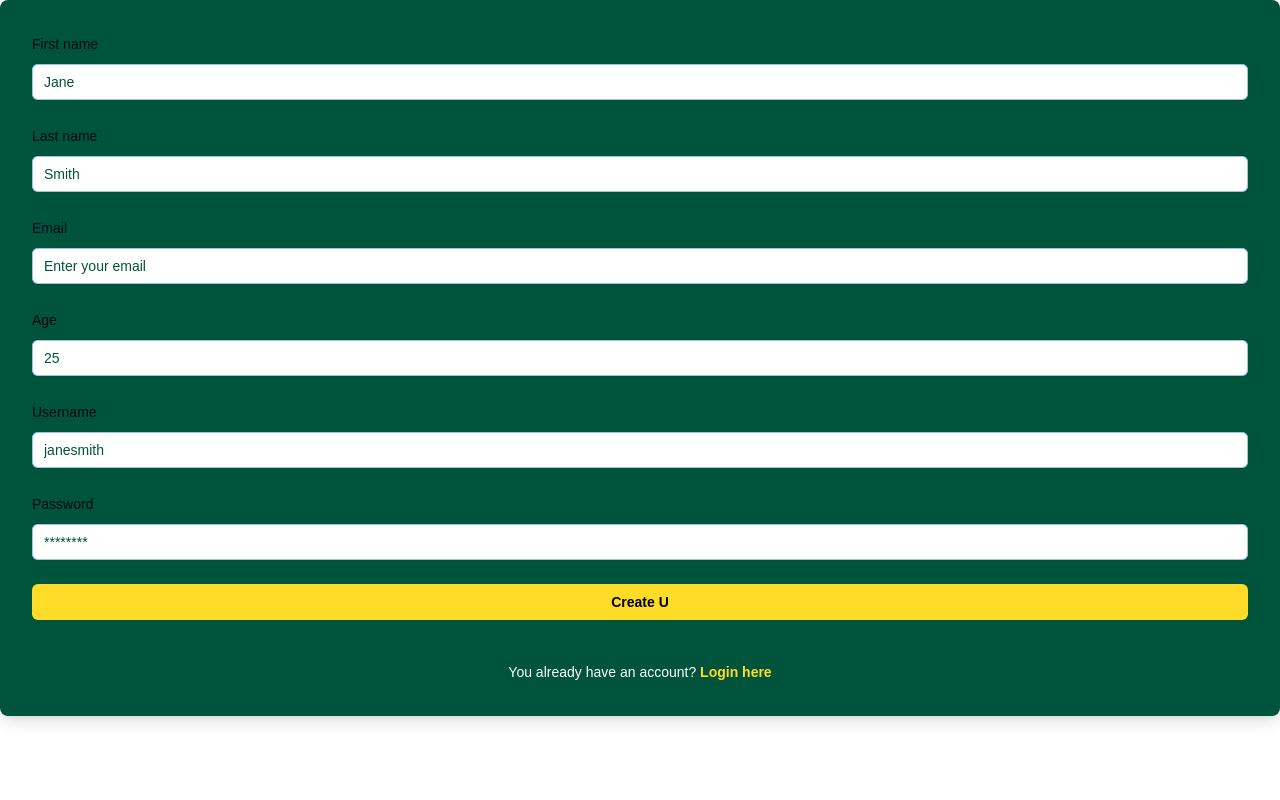
Scenario: SignUp Component › handles API error during form submission
Type "John" into the field labelled "First name".
click(640, 82); type("John")  # box [32,64,1248,100]
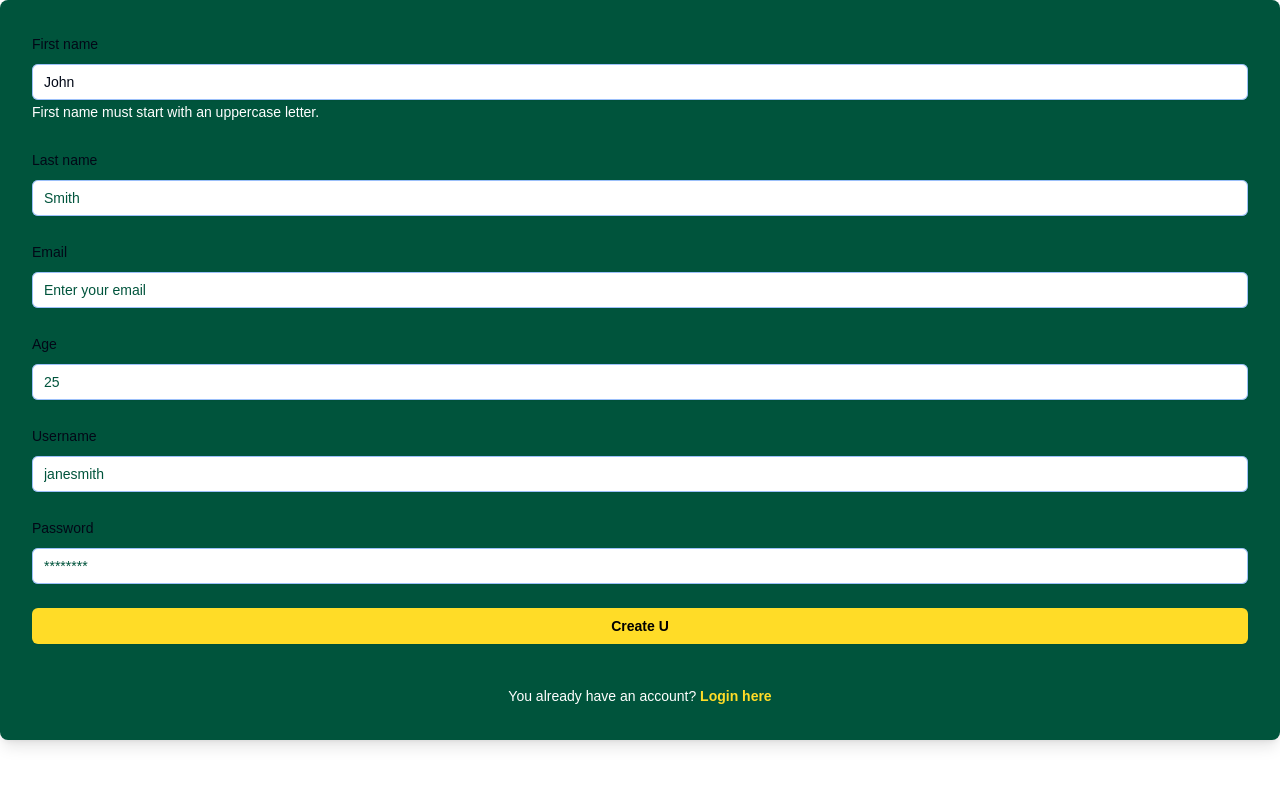
Type "Perez" into the field labelled "Last name".
click(640, 198); type("Perez")  # box [32,180,1248,216]
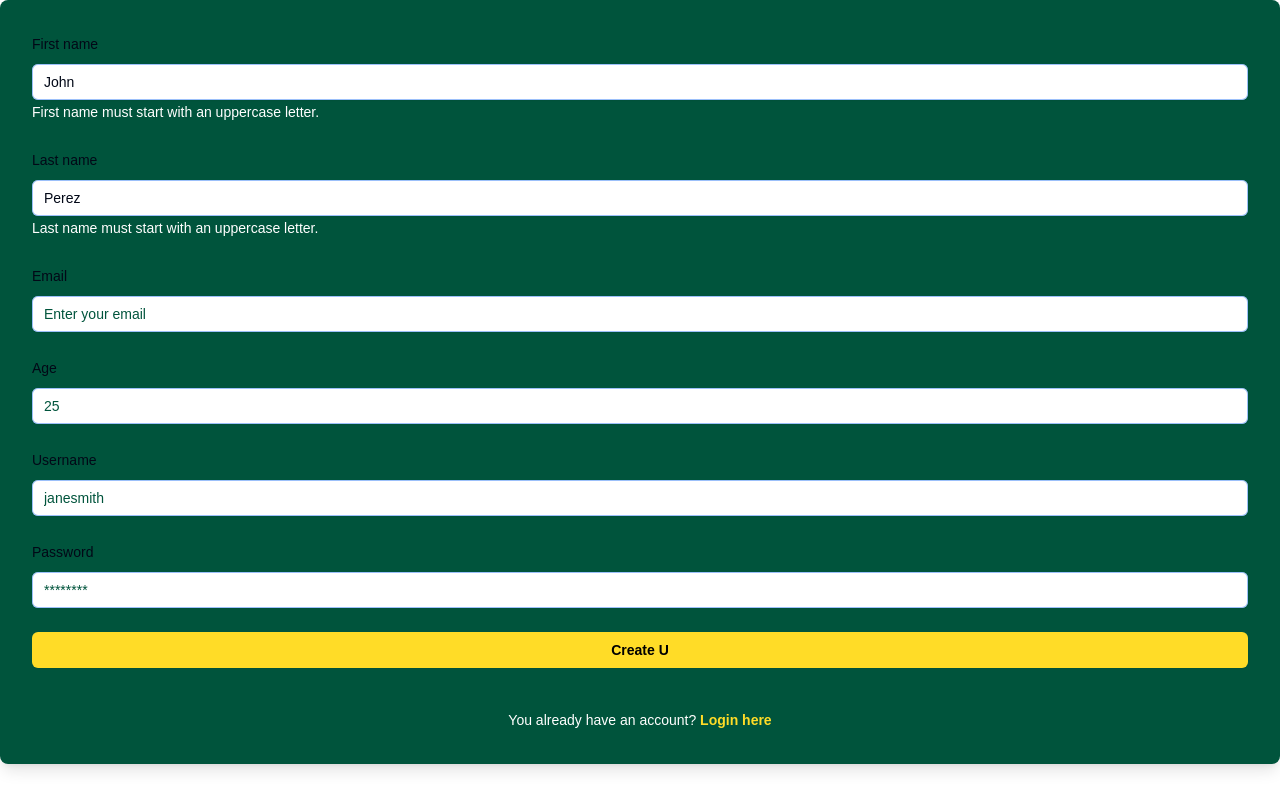
Type "johnpe@example.com" into the field labelled "Email".
click(640, 314); type("johnpe@example.com")  # box [32,296,1248,332]
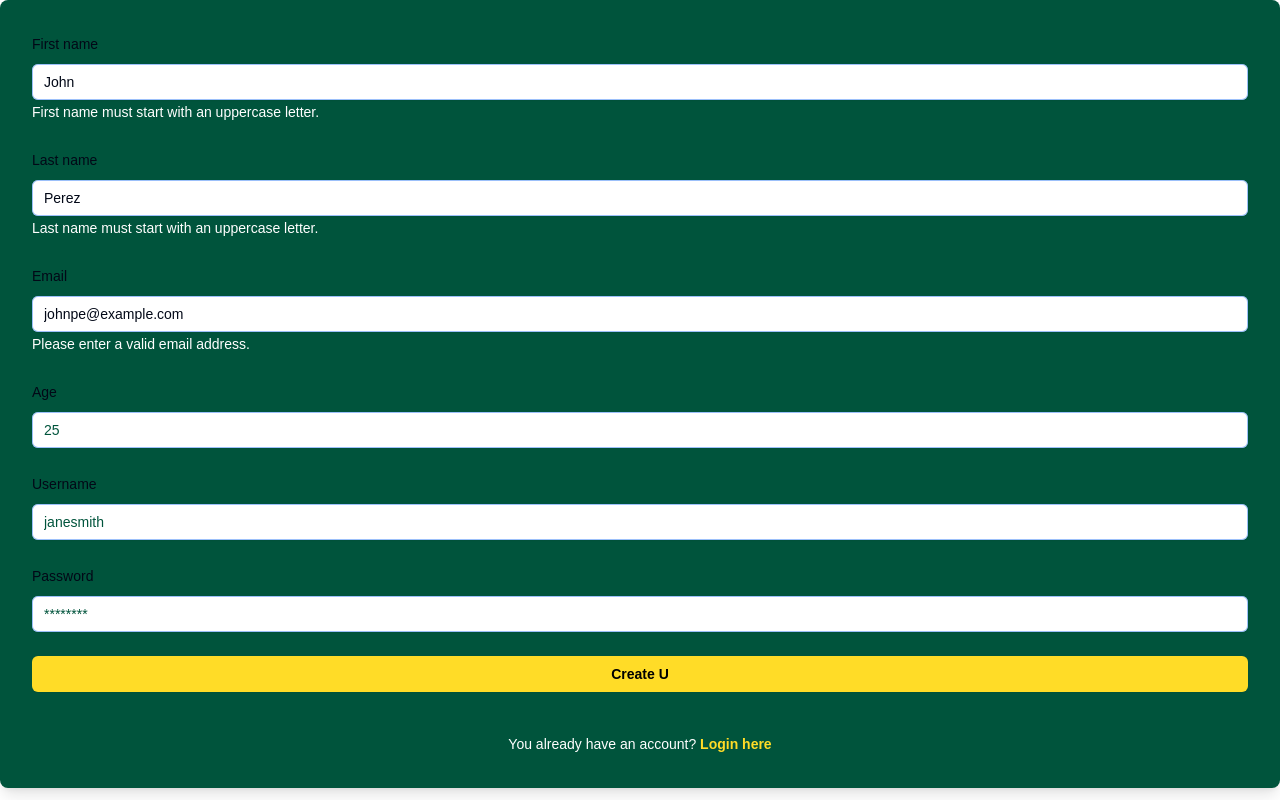
Type "32" into the number field labelled "Age".
click(640, 430); type("32")  # box [32,412,1248,448]
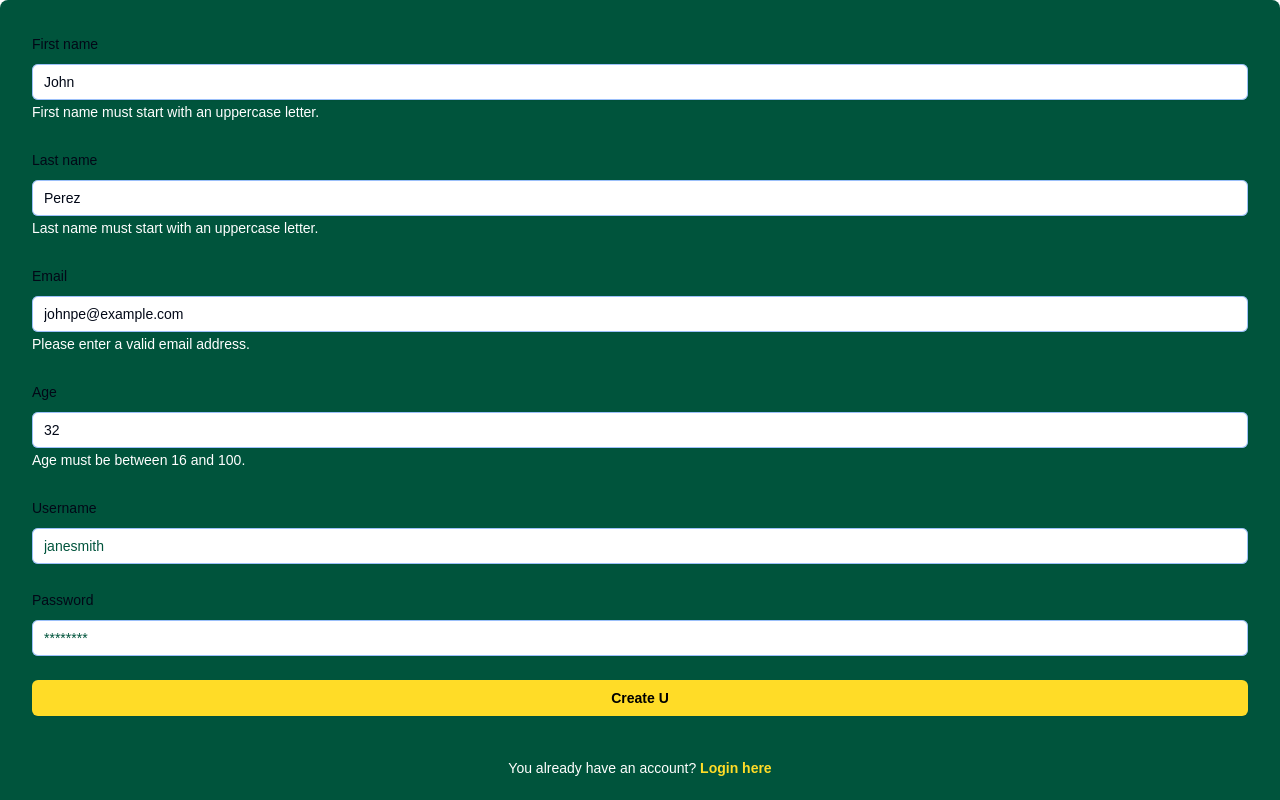
Type "johnperez" into the field labelled "Username".
click(640, 546); type("johnperez")  # box [32,528,1248,564]
Type "Clave12." into the password field labelled "Password".
click(640, 638); type("Clave12.")  # box [32,620,1248,656]
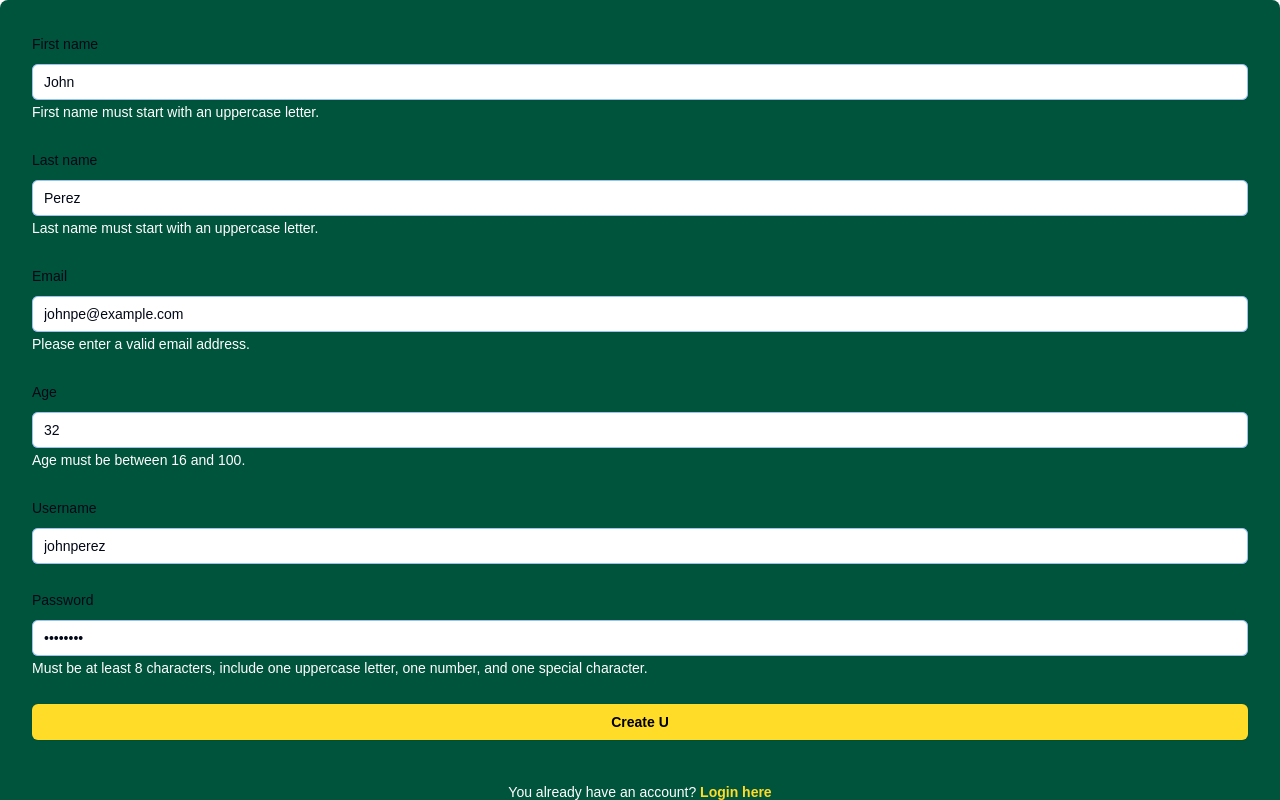
Submit the form from the button "Create U", box [32,704,1248,740]
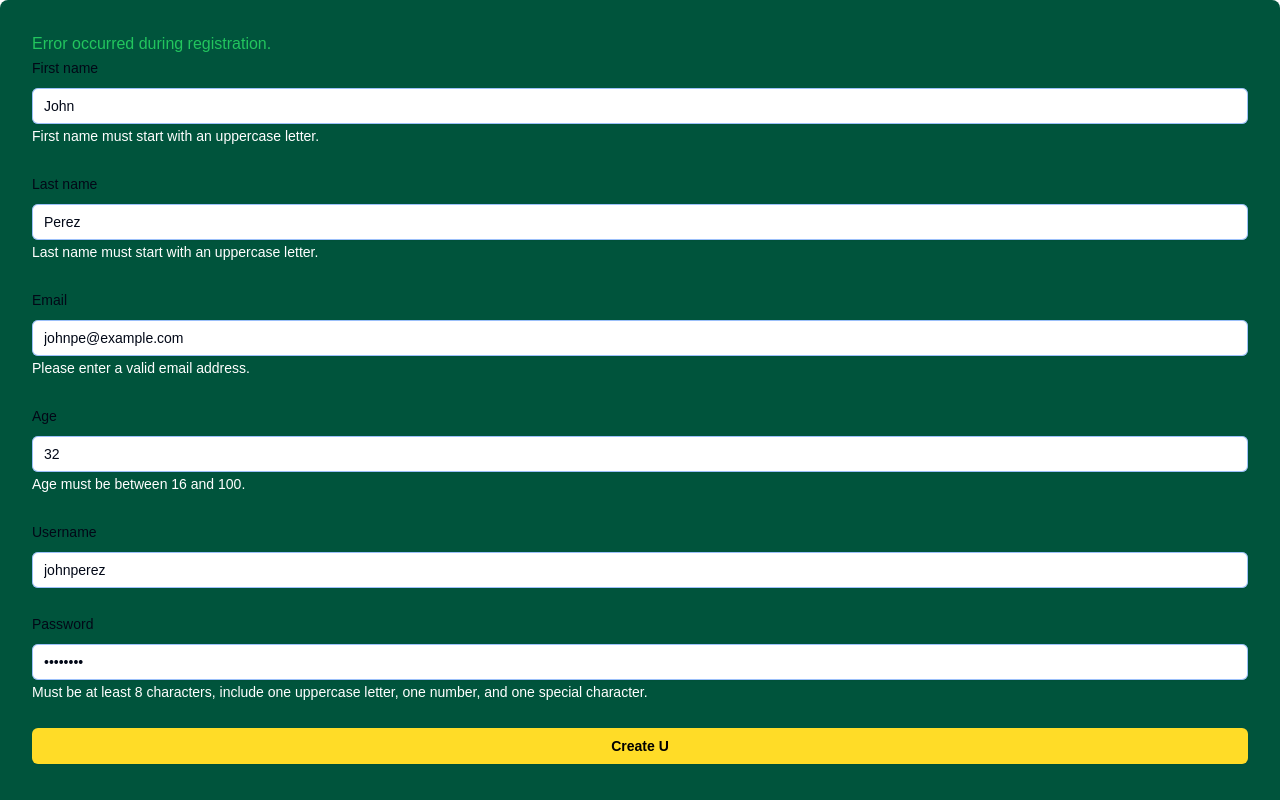
Expected: the text "Error occurred during registration." is shown, [32,35,271,52]
